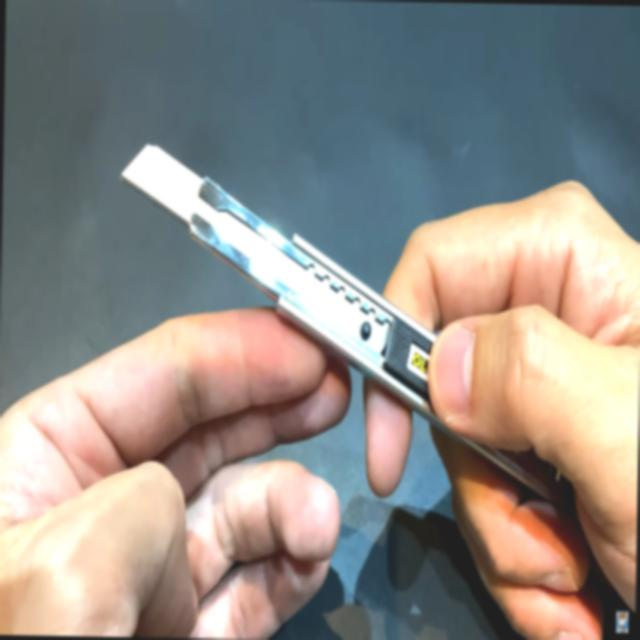cutter: (96, 80, 640, 589)
